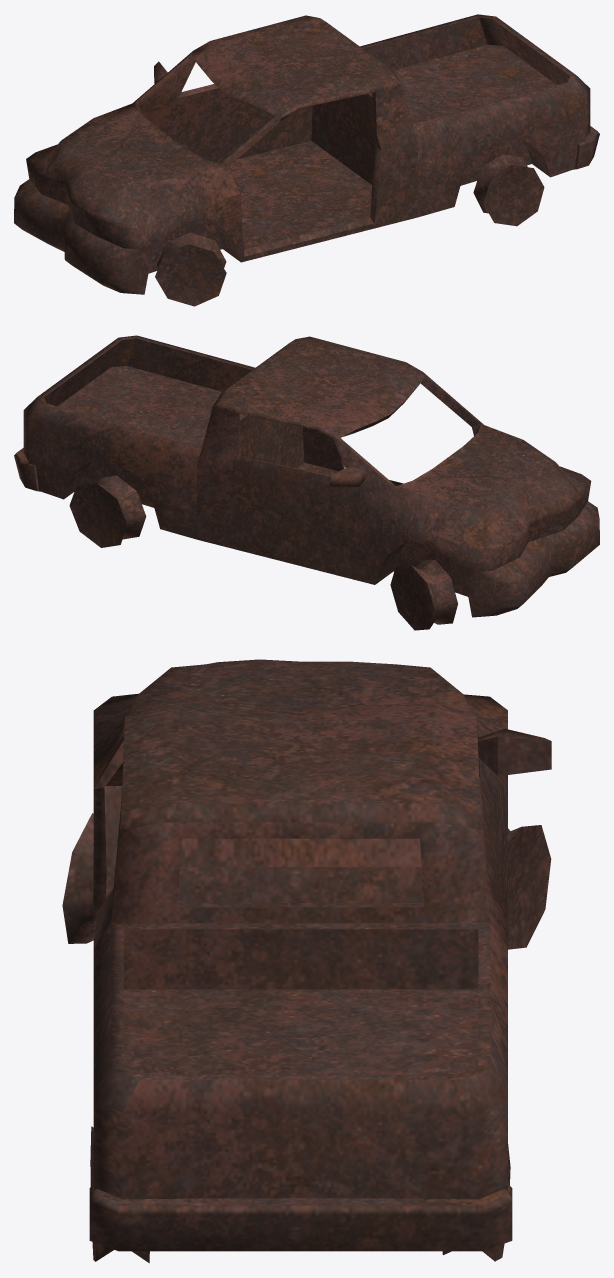
Rendered from SM_Car_02.FBX.
3 renders of one model, top to bottom at view 1: azimuth 30°, elevation 25°; view 2: azimuth 150°, elevation 25°; view 3: azimuth 270°, elevation 25°, orthographic. The views are drawn at different scales.
Visible parts, largest first — view 1: SM_Car_02; view 2: SM_Car_02; view 3: SM_Car_02.
Boxes of the visible parts, x1=… form: SM_Car_02: x1=14, y1=14, x2=599, y2=306; SM_Car_02: x1=14, y1=335, x2=599, y2=630; SM_Car_02: x1=62, y1=659, x2=551, y2=1263.
Size of the model in its own units: 314 by 133 by 104.
